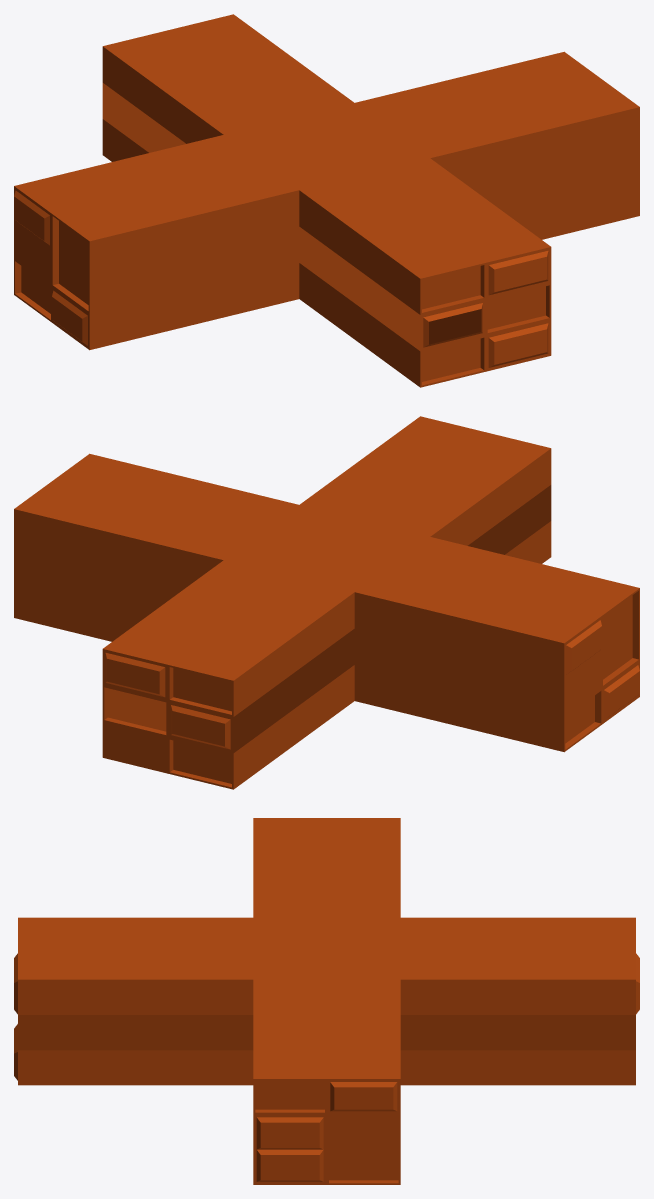
File: LowPlatformCrossUV.FBX
The picture shows the model from 3 angles, top to bottom: view 1: azimuth 30°, elevation 25°; view 2: azimuth 150°, elevation 25°; view 3: azimuth 270°, elevation 25°; orthographic projection. The views are drawn at different scales.
Visible parts, largest first — view 1: LowPlatformCross; view 2: LowPlatformCross; view 3: LowPlatformCross.
Part boxes in pixels (x1,y1,x2,y2): LowPlatformCross: (14, 14, 639, 387); LowPlatformCross: (14, 416, 639, 789); LowPlatformCross: (14, 818, 639, 1184).
Size of the model in its own units: 4288 by 800 by 4288.
